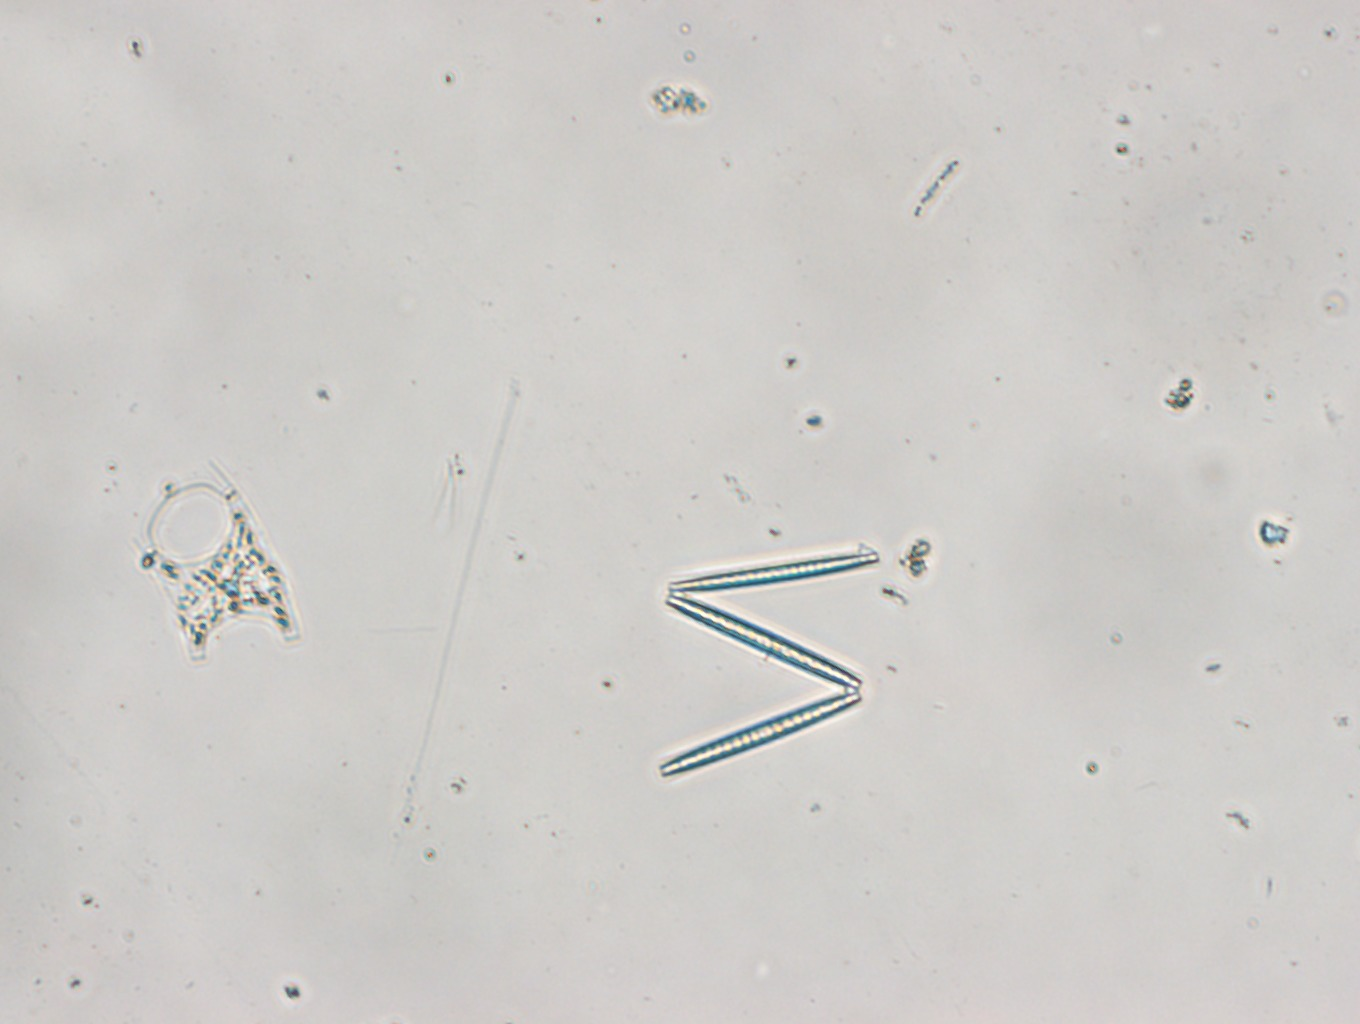thalassionema nitzschioides: (652, 529, 884, 783)
